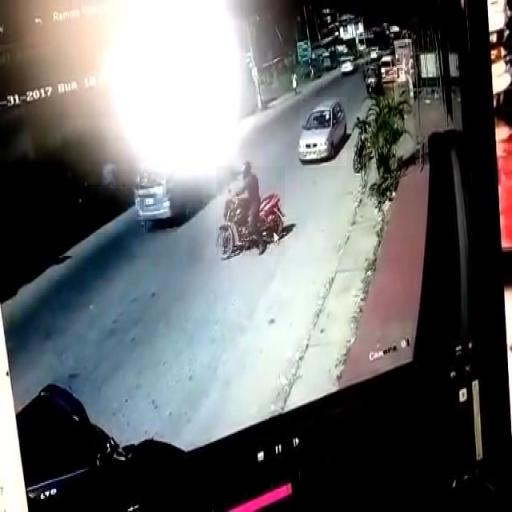小汽车: (300, 97, 347, 166)
自行车: (216, 166, 285, 256)
